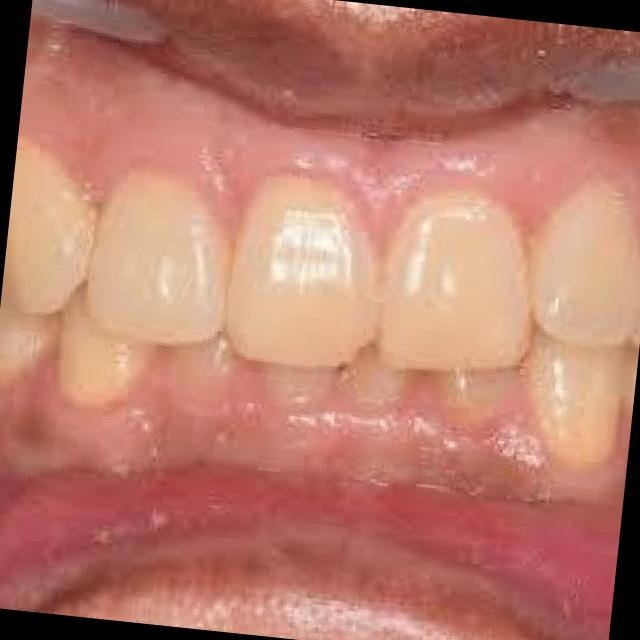Tooth: (226, 173, 374, 366), (383, 188, 531, 370), (87, 172, 233, 347), (529, 179, 640, 347), (1, 141, 100, 315), (523, 321, 626, 469), (58, 286, 156, 405)
